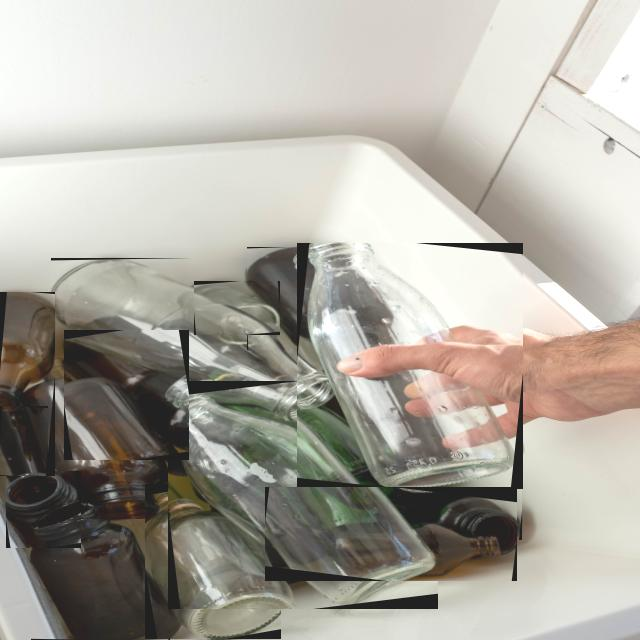Bottle: (167, 381, 436, 609), (296, 243, 522, 489), (50, 259, 334, 419), (289, 417, 520, 539), (24, 373, 169, 519), (144, 485, 280, 638), (30, 505, 168, 639), (63, 331, 187, 460), (194, 282, 321, 379), (365, 473, 521, 539), (247, 248, 321, 379), (0, 293, 53, 475), (0, 293, 53, 411), (247, 248, 305, 349), (5, 472, 79, 547), (286, 416, 375, 478), (415, 518, 506, 571), (434, 487, 521, 540), (415, 519, 502, 571), (193, 282, 278, 335), (0, 406, 48, 476), (44, 355, 77, 379)
